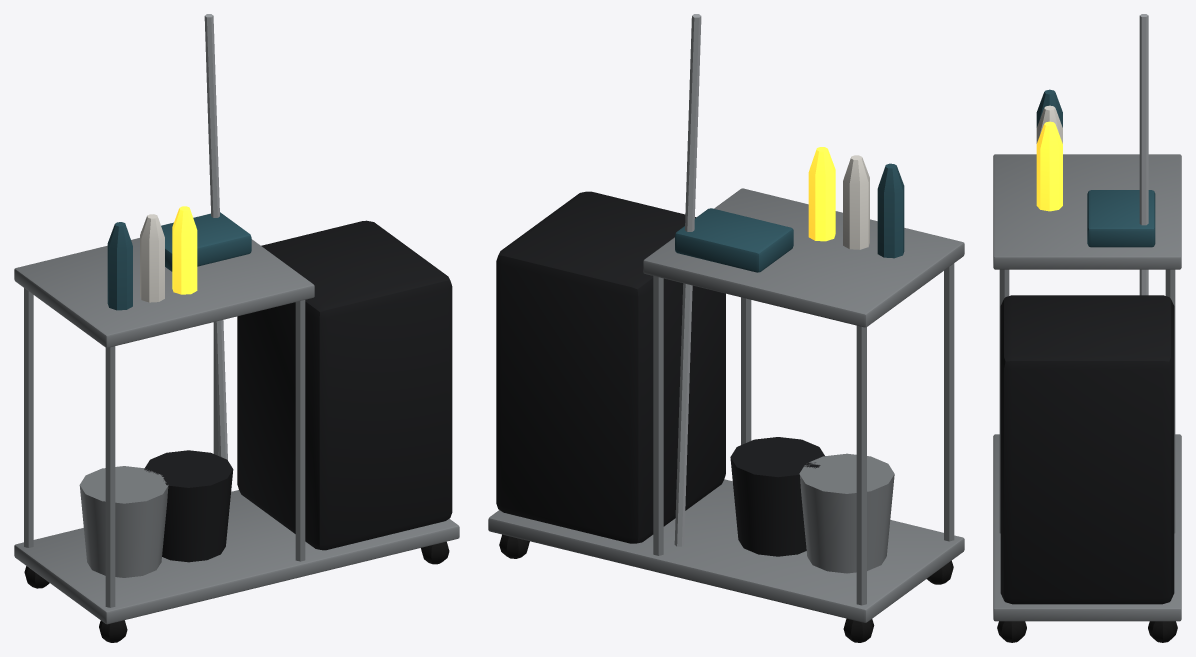
Rendered from vantage_cleaning_cart.glb.
The picture shows the model from 3 angles, left to right: view 1: azimuth 30°, elevation 25°; view 2: azimuth 150°, elevation 25°; view 3: azimuth 270°, elevation 25°; orthographic projection. The views are drawn at different scales.
Visible parts, largest first — view 1: vantage_cleaning_cart; view 2: vantage_cleaning_cart; view 3: vantage_cleaning_cart.
Boxes of the visible parts, x1,y1,x2,y2 form: vantage_cleaning_cart: (14,14,459,642); vantage_cleaning_cart: (488,14,964,642); vantage_cleaning_cart: (993,14,1181,642).
Size of the model in its own units: 1.1 by 1.6 by 0.5.
